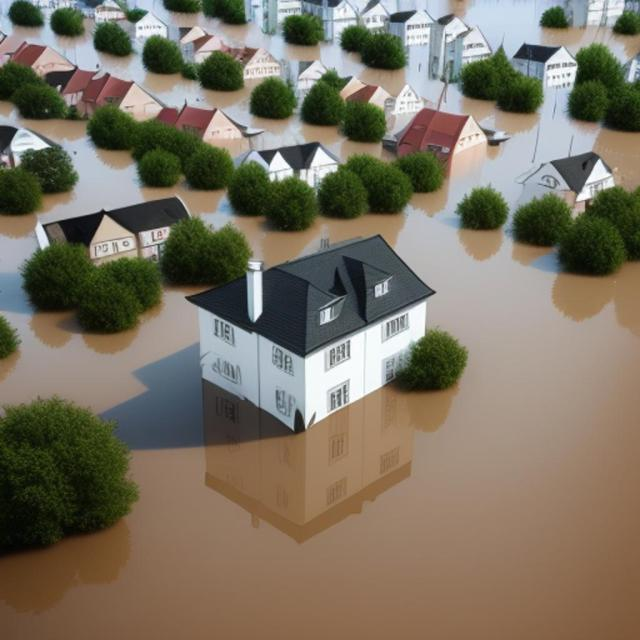flood: (0, 206, 640, 640), (0, 101, 434, 414), (128, 0, 640, 229), (0, 0, 391, 160), (420, 0, 640, 62)
house: (183, 235, 434, 433), (32, 190, 190, 269), (530, 151, 617, 223), (393, 104, 488, 161), (423, 8, 488, 84), (510, 42, 578, 90), (17, 41, 78, 92), (86, 70, 160, 112), (41, 58, 100, 106), (258, 143, 338, 178), (227, 44, 283, 83), (178, 104, 240, 138), (388, 7, 432, 47), (178, 25, 216, 65), (339, 76, 389, 106), (126, 8, 170, 41), (2, 126, 51, 153)
